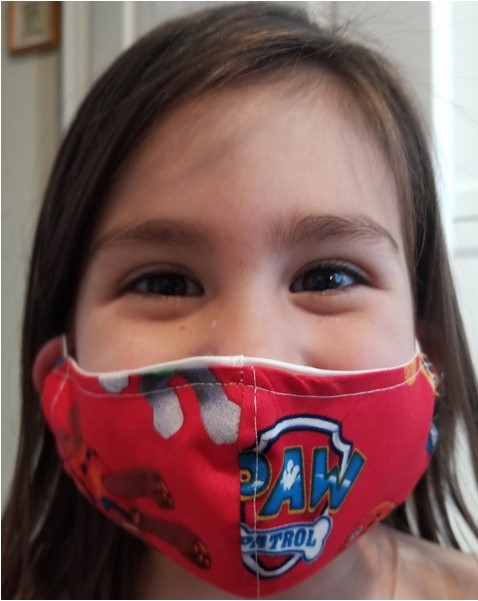face_with_mask: (32, 9, 450, 596)
